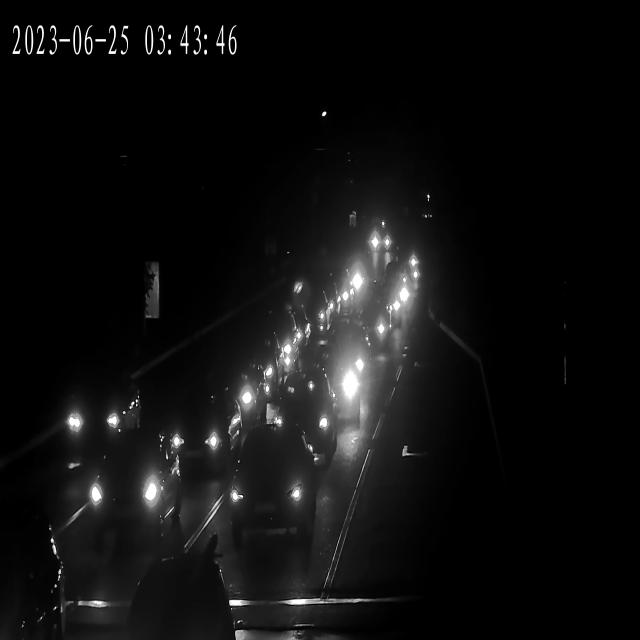Car: (75, 432, 182, 552), (219, 433, 319, 555), (0, 510, 77, 640), (116, 561, 240, 640), (136, 384, 239, 476), (57, 377, 145, 452), (309, 329, 377, 425), (202, 354, 268, 432), (288, 284, 347, 346), (244, 331, 288, 393), (354, 301, 396, 355), (322, 269, 356, 322), (268, 322, 301, 376), (384, 243, 421, 275), (379, 280, 407, 321), (343, 266, 369, 300), (365, 232, 391, 253)
